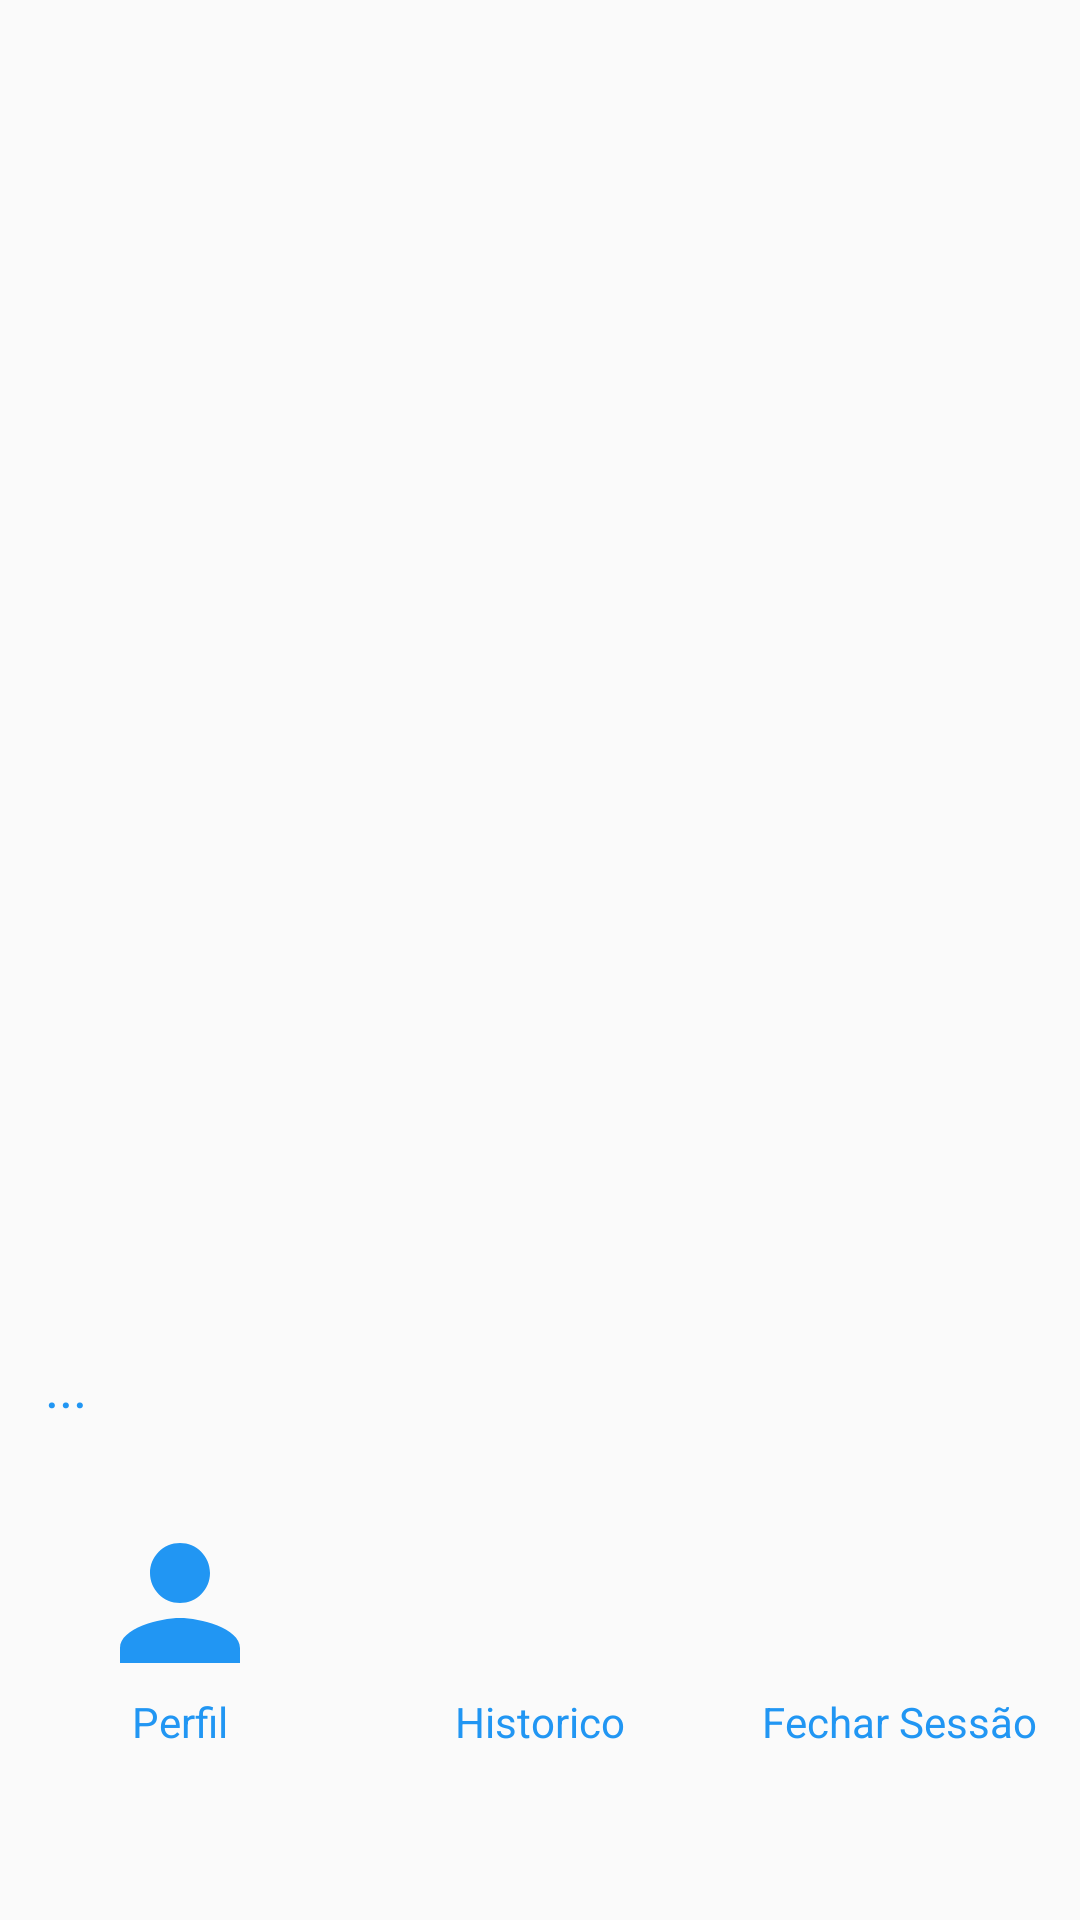

Where icons sit on this 1080 × 1920 app screen, as (x1=x1, y1=y1, x2=x2, y2=y2):
person: (x1=120, y1=1543, x2=240, y2=1663)
